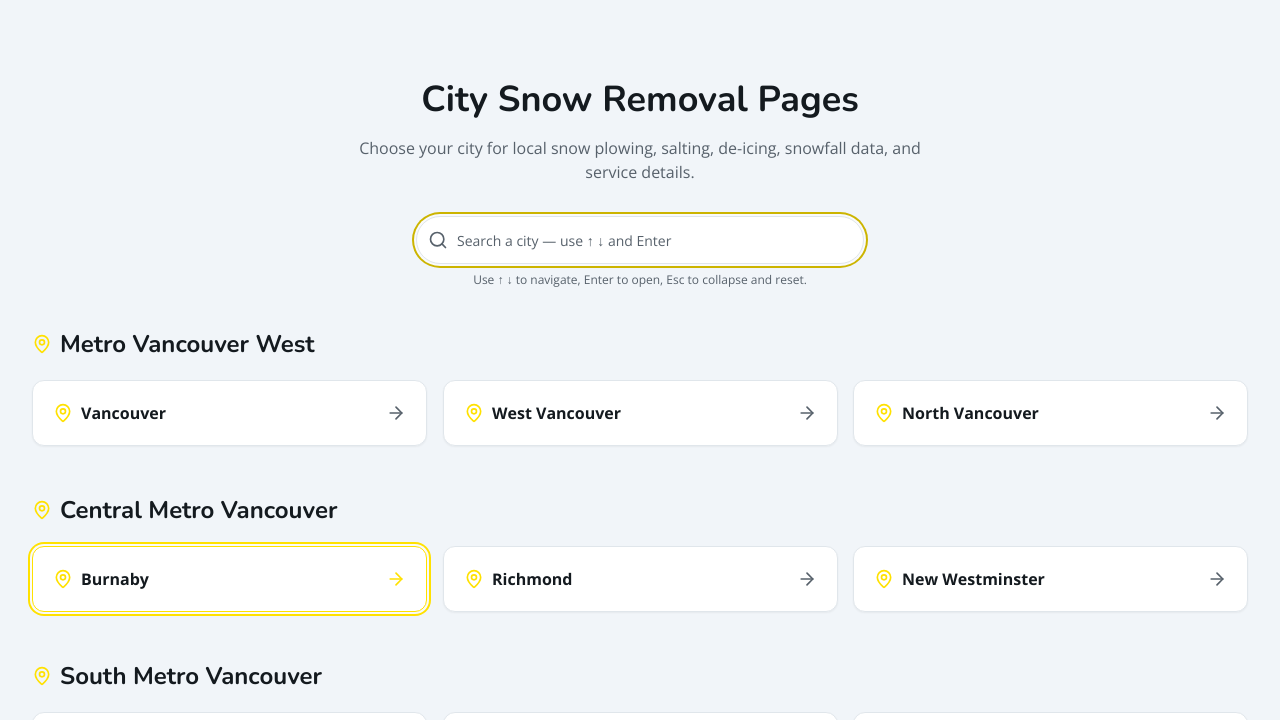
it: ServiceAreas restore synchronization › clearing the query fires scroll + focus + pulse together from one event
This screenshot has width=1280, height=720.
Note: Type a query that filters Burnaby out entirely.
Step 1. Type "abbotsford" into the dropdown → (640, 240), box x1=416 y1=216 x2=864 y2=264
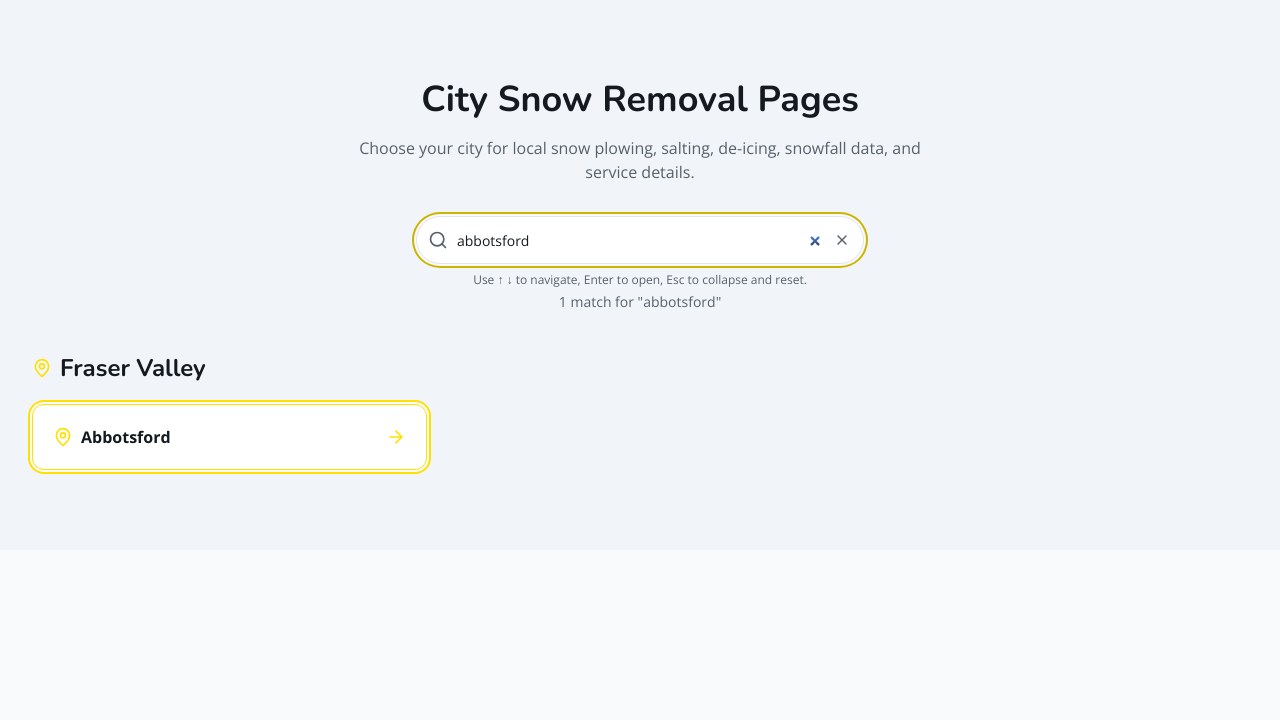
Expected: the option with id "city-opt-burnaby" is gone
Note: Clear the query — single restoreEvent drives scroll+focus+pulse.
Step 2. Clear the dropdown → (640, 240), box x1=416 y1=216 x2=864 y2=264
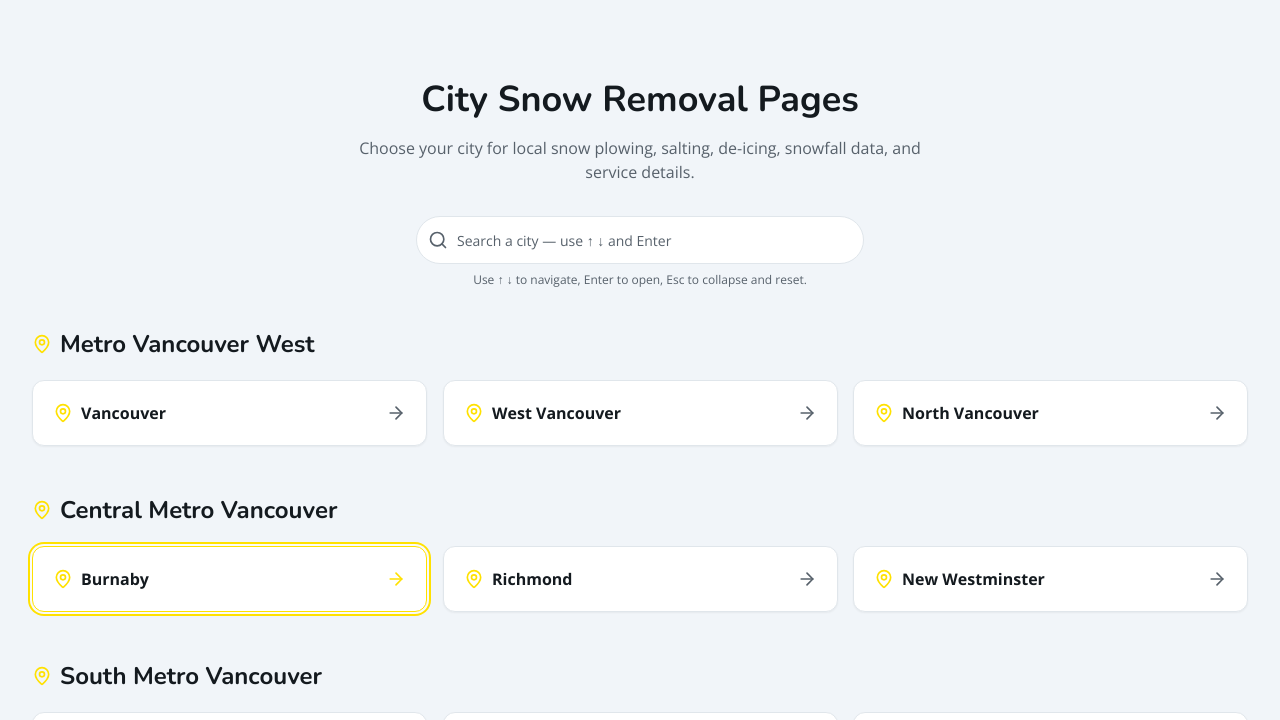
Expected: the option with id "city-opt-burnaby" is shown, x1=32 y1=546 x2=427 y2=612
